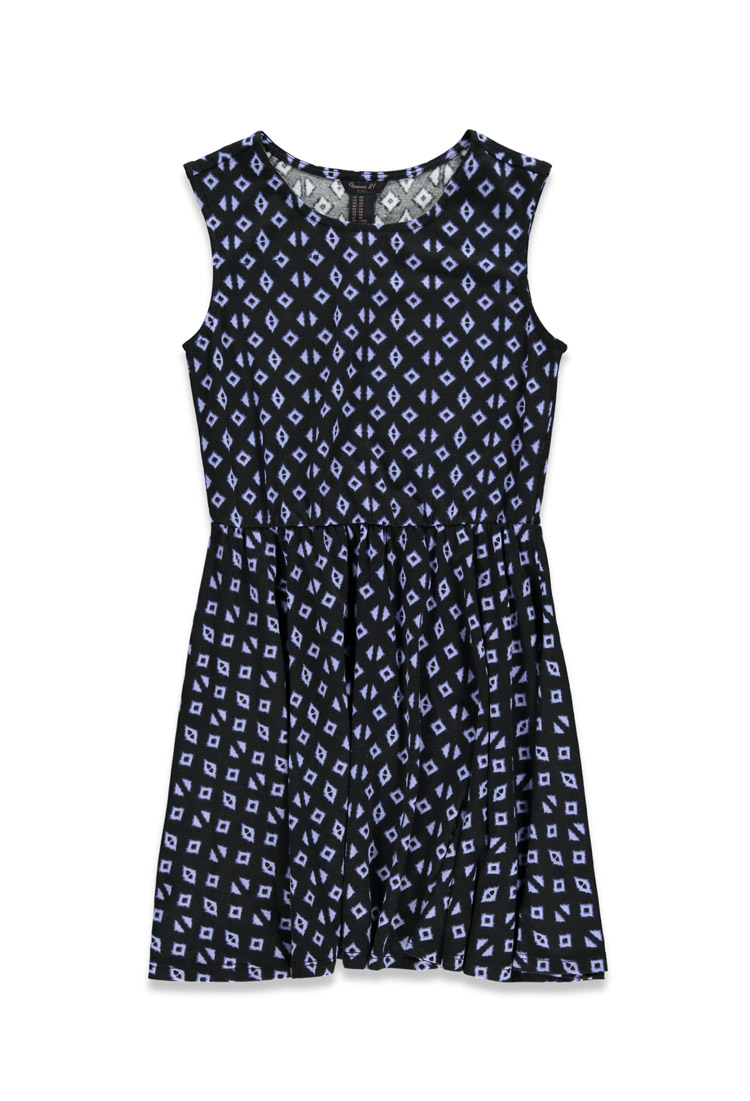C_dress: (137, 99, 613, 1007)
C_skirt: (164, 528, 613, 1003)
